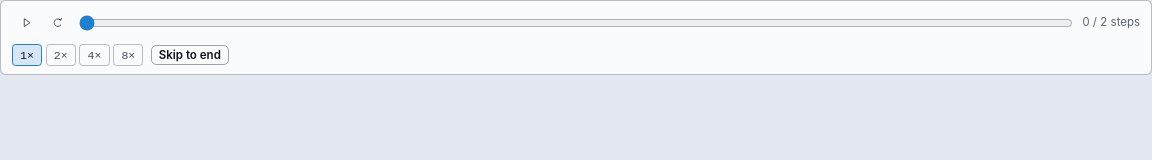
Scenario: SessionReplayControls (issue #265) › skip to end reveals everything and disables itself once finished
The image size is (1152, 160).
Click the button with test id "replay-skip-to-end" at (190, 55), box [151,46,229,65]
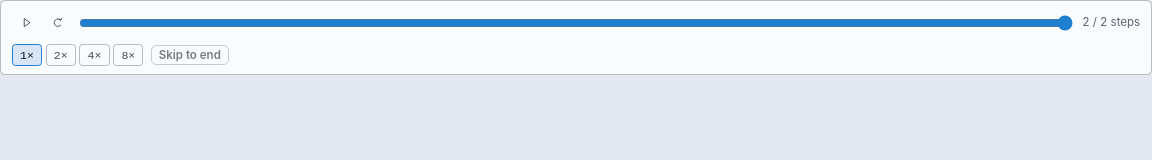
Result: the button with test id "replay-skip-to-end" is disabled at [151,46,229,65]
Result: the text with test id "replay-progress" reads "2 / 2 steps" at [1082,15,1140,29]
